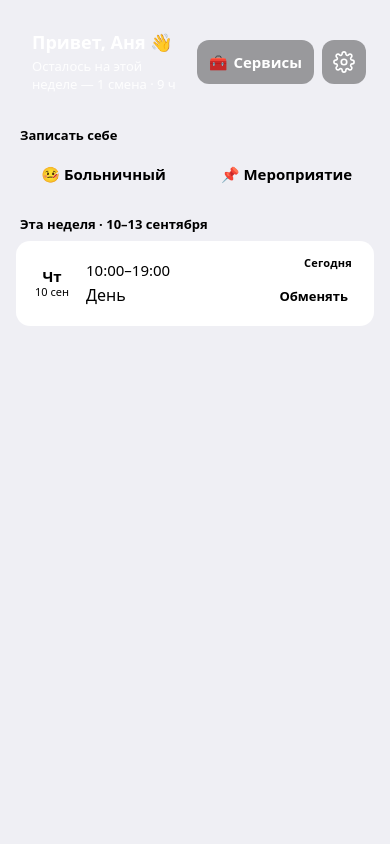
«Кто ещё работает» под своей сменой › пока грузится — «Загружаю…», а не уже пришедший список
Click the element with test id "shift-row".
click(195, 283)  # box [16,241,374,326]
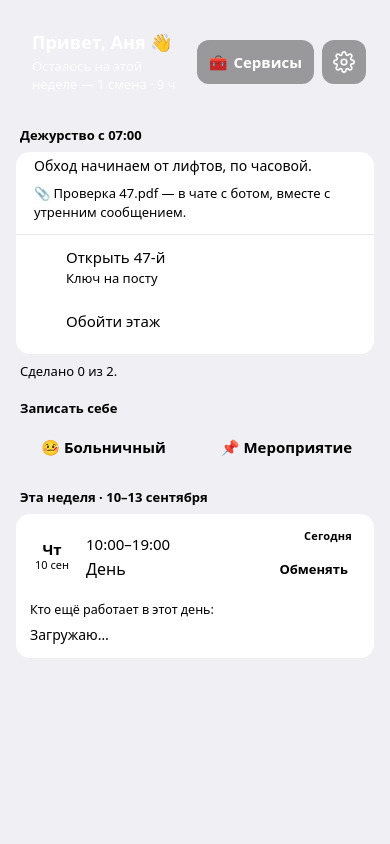
Result: the text "Загружаю" is shown at [30,624,109,644]
